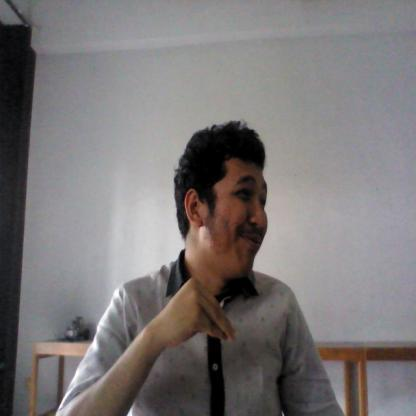Malam: (144, 274, 244, 364)
